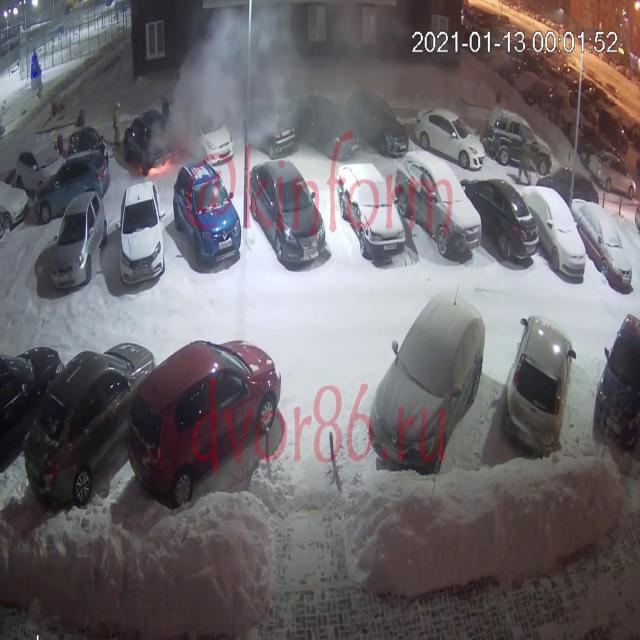Smoke: (146, 1, 400, 162)
